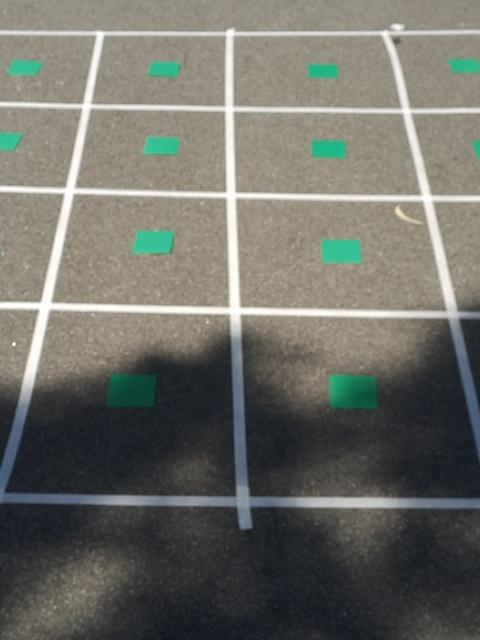weed: (104, 369, 160, 412), (329, 371, 381, 413), (130, 224, 177, 259), (318, 234, 364, 267), (304, 134, 350, 163), (141, 131, 181, 159), (439, 52, 480, 77), (144, 57, 181, 81), (6, 56, 50, 76), (0, 127, 30, 153), (308, 59, 340, 81), (472, 136, 480, 166)
